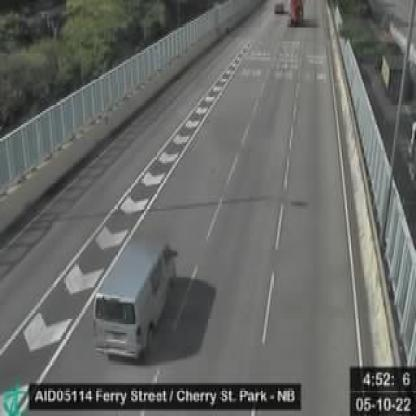Car: (94, 239, 176, 356)
